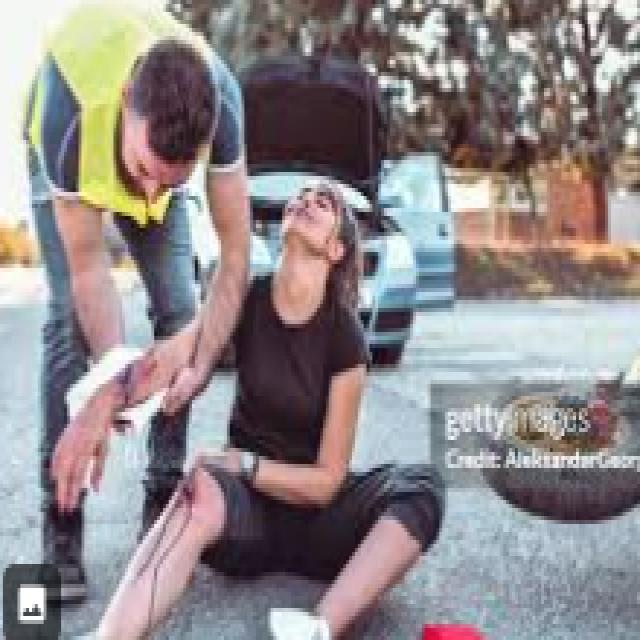injury: (118, 40, 230, 202), (280, 181, 358, 319), (132, 467, 197, 612), (107, 353, 156, 421)
